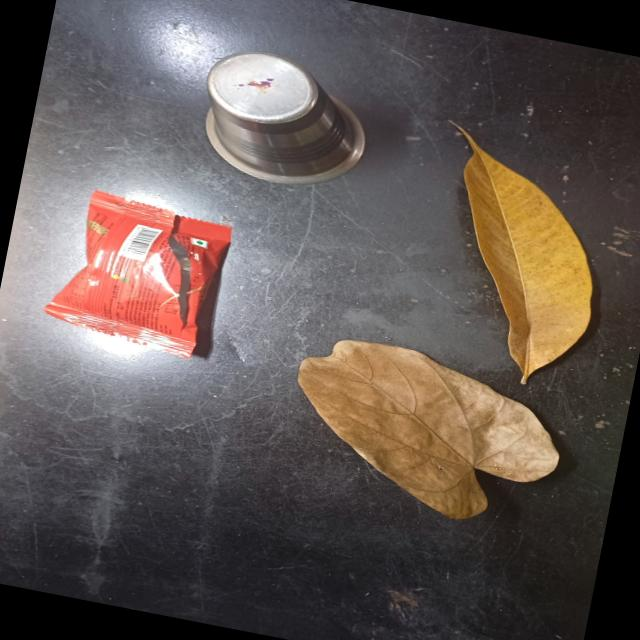Leaf-Bio: (396, 114, 626, 396), (271, 328, 578, 538)
Plastic-NonBio: (35, 182, 238, 364)
Steel-NonBio: (188, 42, 389, 201)
